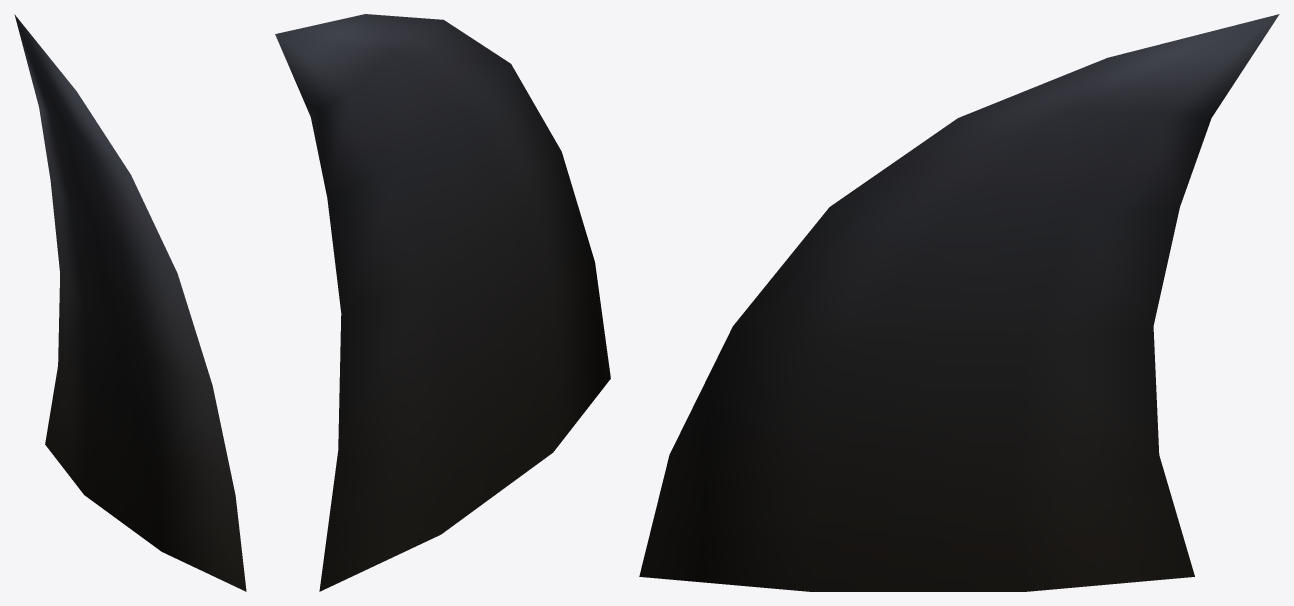
Rendered from AR_Animal_Ostrich_Skin4_FXMesh.FBX.
3 renders of one model, left to right at view 1: azimuth 30°, elevation 25°; view 2: azimuth 150°, elevation 25°; view 3: azimuth 270°, elevation 25°, orthographic. The views are drawn at different scales.
Parts seen in each view (by area): view 1: AR_Animal_Ostrich_Skin4_FXMesh; view 2: AR_Animal_Ostrich_Skin4_FXMesh; view 3: AR_Animal_Ostrich_Skin4_FXMesh.
Boxes of the visible parts, x1,y1,x2,y2 form: AR_Animal_Ostrich_Skin4_FXMesh: (14, 14, 246, 591); AR_Animal_Ostrich_Skin4_FXMesh: (275, 14, 610, 591); AR_Animal_Ostrich_Skin4_FXMesh: (639, 14, 1279, 591).
Size of the model in its own units: 2.25 by 19.86 by 19.26.
